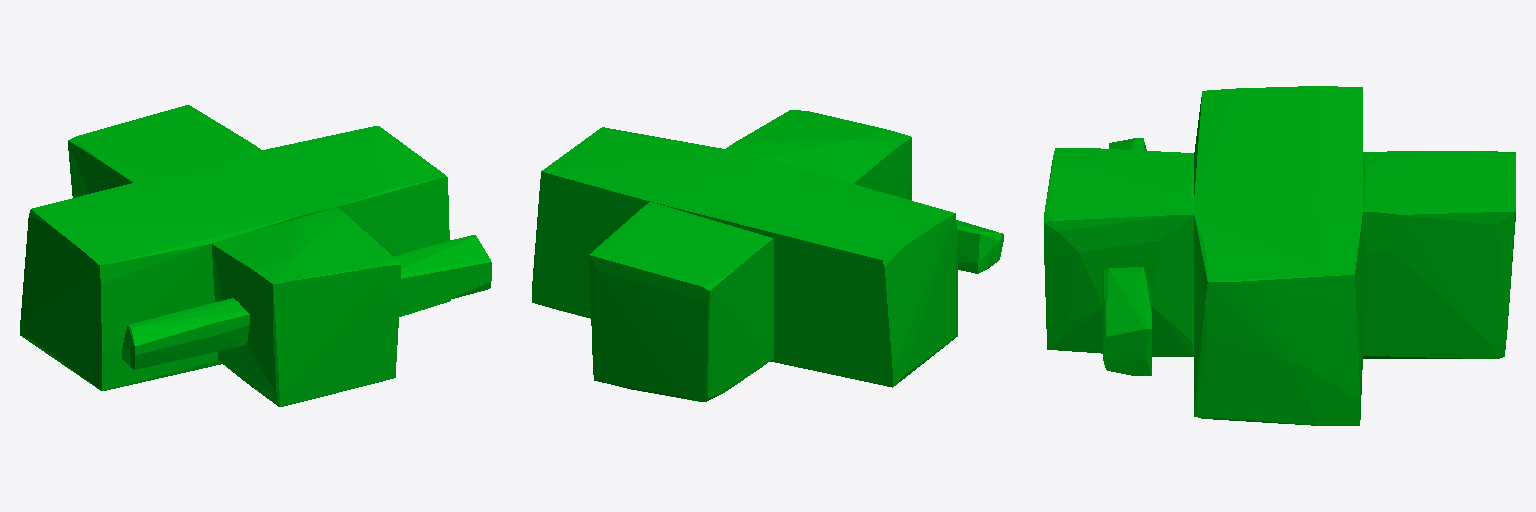
URDF robot description (blob149):
<robot name="blob149">
  <link name="random_obj_149">
    <contact>
      <lateral_friction value="1.0"/>
      <rolling_friction value="0.0"/>
      <inertia_scaling value="3.0"/>
      <contact_cfm value="0.0"/>
      <contact_erp value="1.0"/>
    </contact>
    <inertial>
      <origin rpy="0 0 0" xyz="0 0 0"/>
      <mass value="0.1"/>
      <inertia ixx="1" ixy="0" ixz="0" iyy="1" iyz="0" izz="0"/>
    </inertial>
    <visual>
      <origin rpy="0 0 0" xyz="0 0 0"/>
      <geometry>
        <mesh filename="149.obj" scale="0.015 0.015 0.015"/>
      </geometry>
      <material name="blockmat">
        <color rgba="0.00 0.73 0.10 1"/>
      </material>
    </visual>
    <collision>
      <origin rpy="0 0 0" xyz="0 0 0"/>
      <geometry>
        <mesh filename="149.obj" scale="0.015 0.015 0.015"/>
      </geometry>
    </collision>
  </link>
</robot>

--- What the picture shows (computed from the rendered views, not written in the file) ---
Views: 3 orthographic renders of the robot side by side, from view 1: azimuth 30°, elevation 25°; view 2: azimuth 150°, elevation 25°; view 3: azimuth 270°, elevation 25°.
Model blob149 with 1 links and 0 joints (none), rooted at random_obj_149, posed every joint at zero.
Links seen in each view (by area): view 1: random_obj_149; view 2: random_obj_149; view 3: random_obj_149.
Boxes of the visible links, x1=… form: random_obj_149: x1=20, y1=105, x2=491, y2=406; random_obj_149: x1=532, y1=110, x2=1003, y2=401; random_obj_149: x1=1044, y1=86, x2=1515, y2=425.
Size in the robot's own frame: 0.0931 by 0.0931 by 0.0328 metres.
Meshes: 1 distinct files referenced, 1 mesh visuals loaded (1 OBJ).